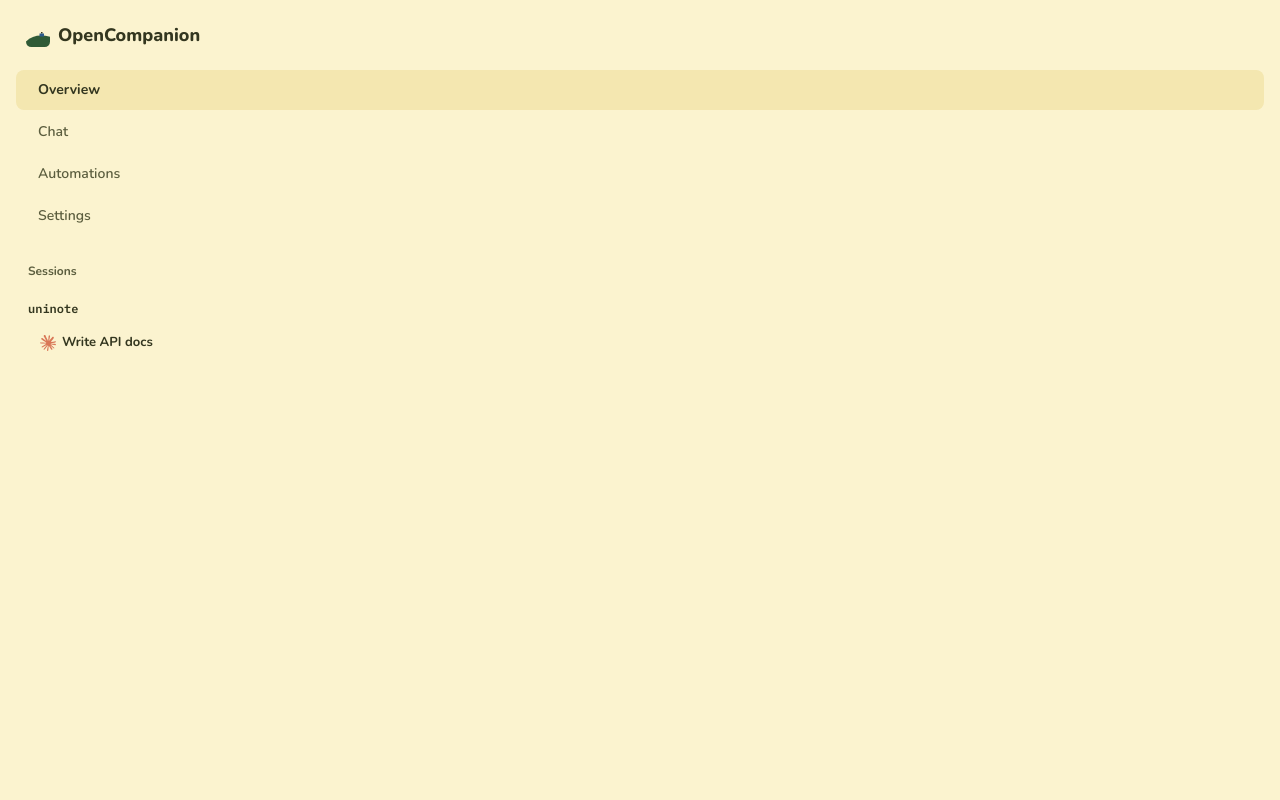
Test case: Pin in the menu pins the session, and the next menu offers Unpin
Right-click the link "Write API docs".
right_click(100, 347)  # box [40,333,161,361]
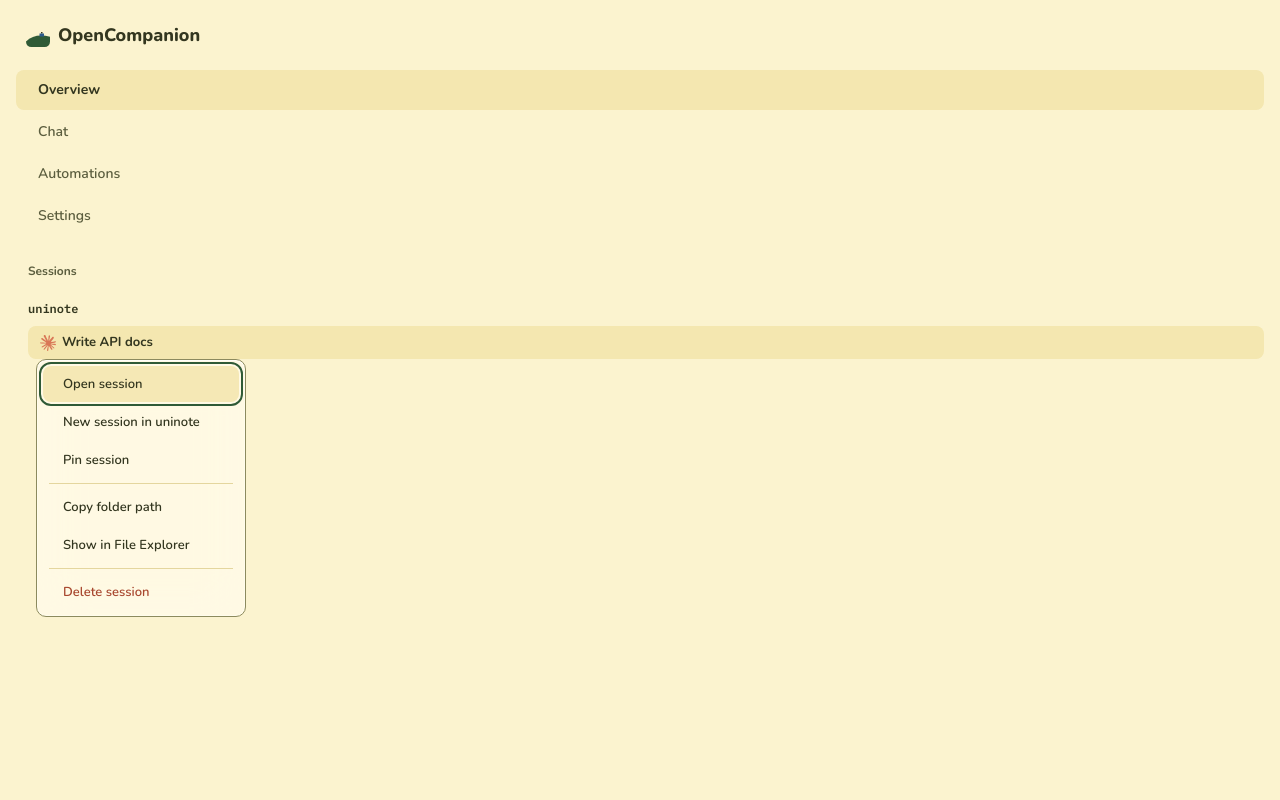
Click the menu item "Pin session".
click(141, 460)  # box [43,442,239,478]
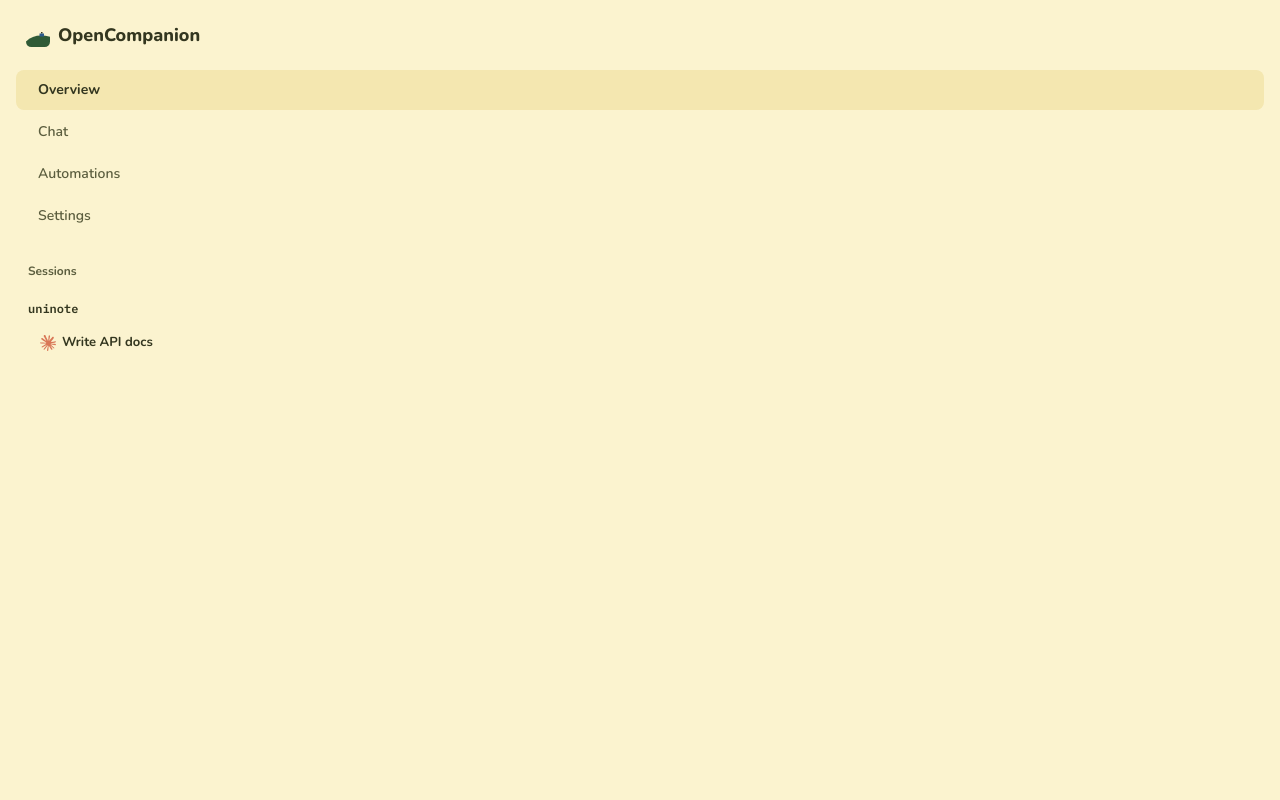
Right-click the link "Write API docs".
right_click(126, 347)  # box [40,333,211,361]
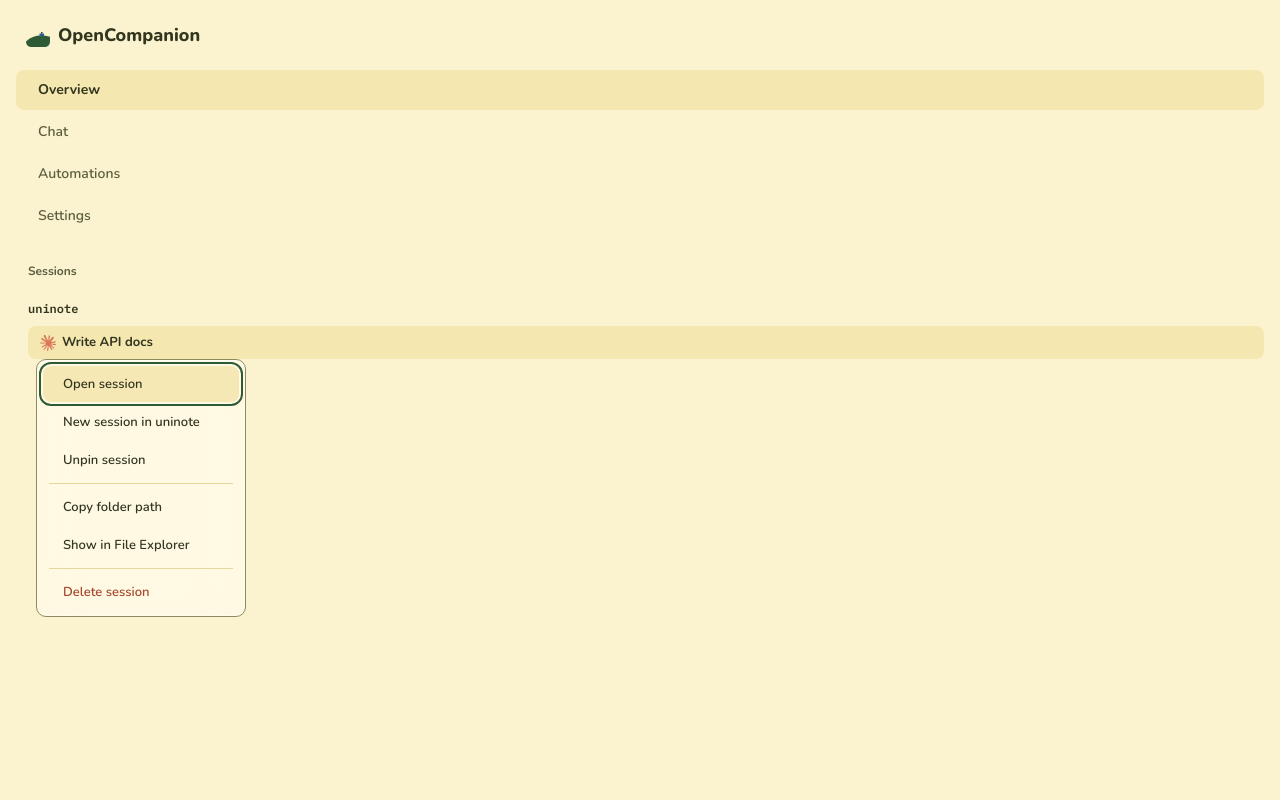
Expected: the menu item "Unpin session" is shown, [43,442,239,478]
